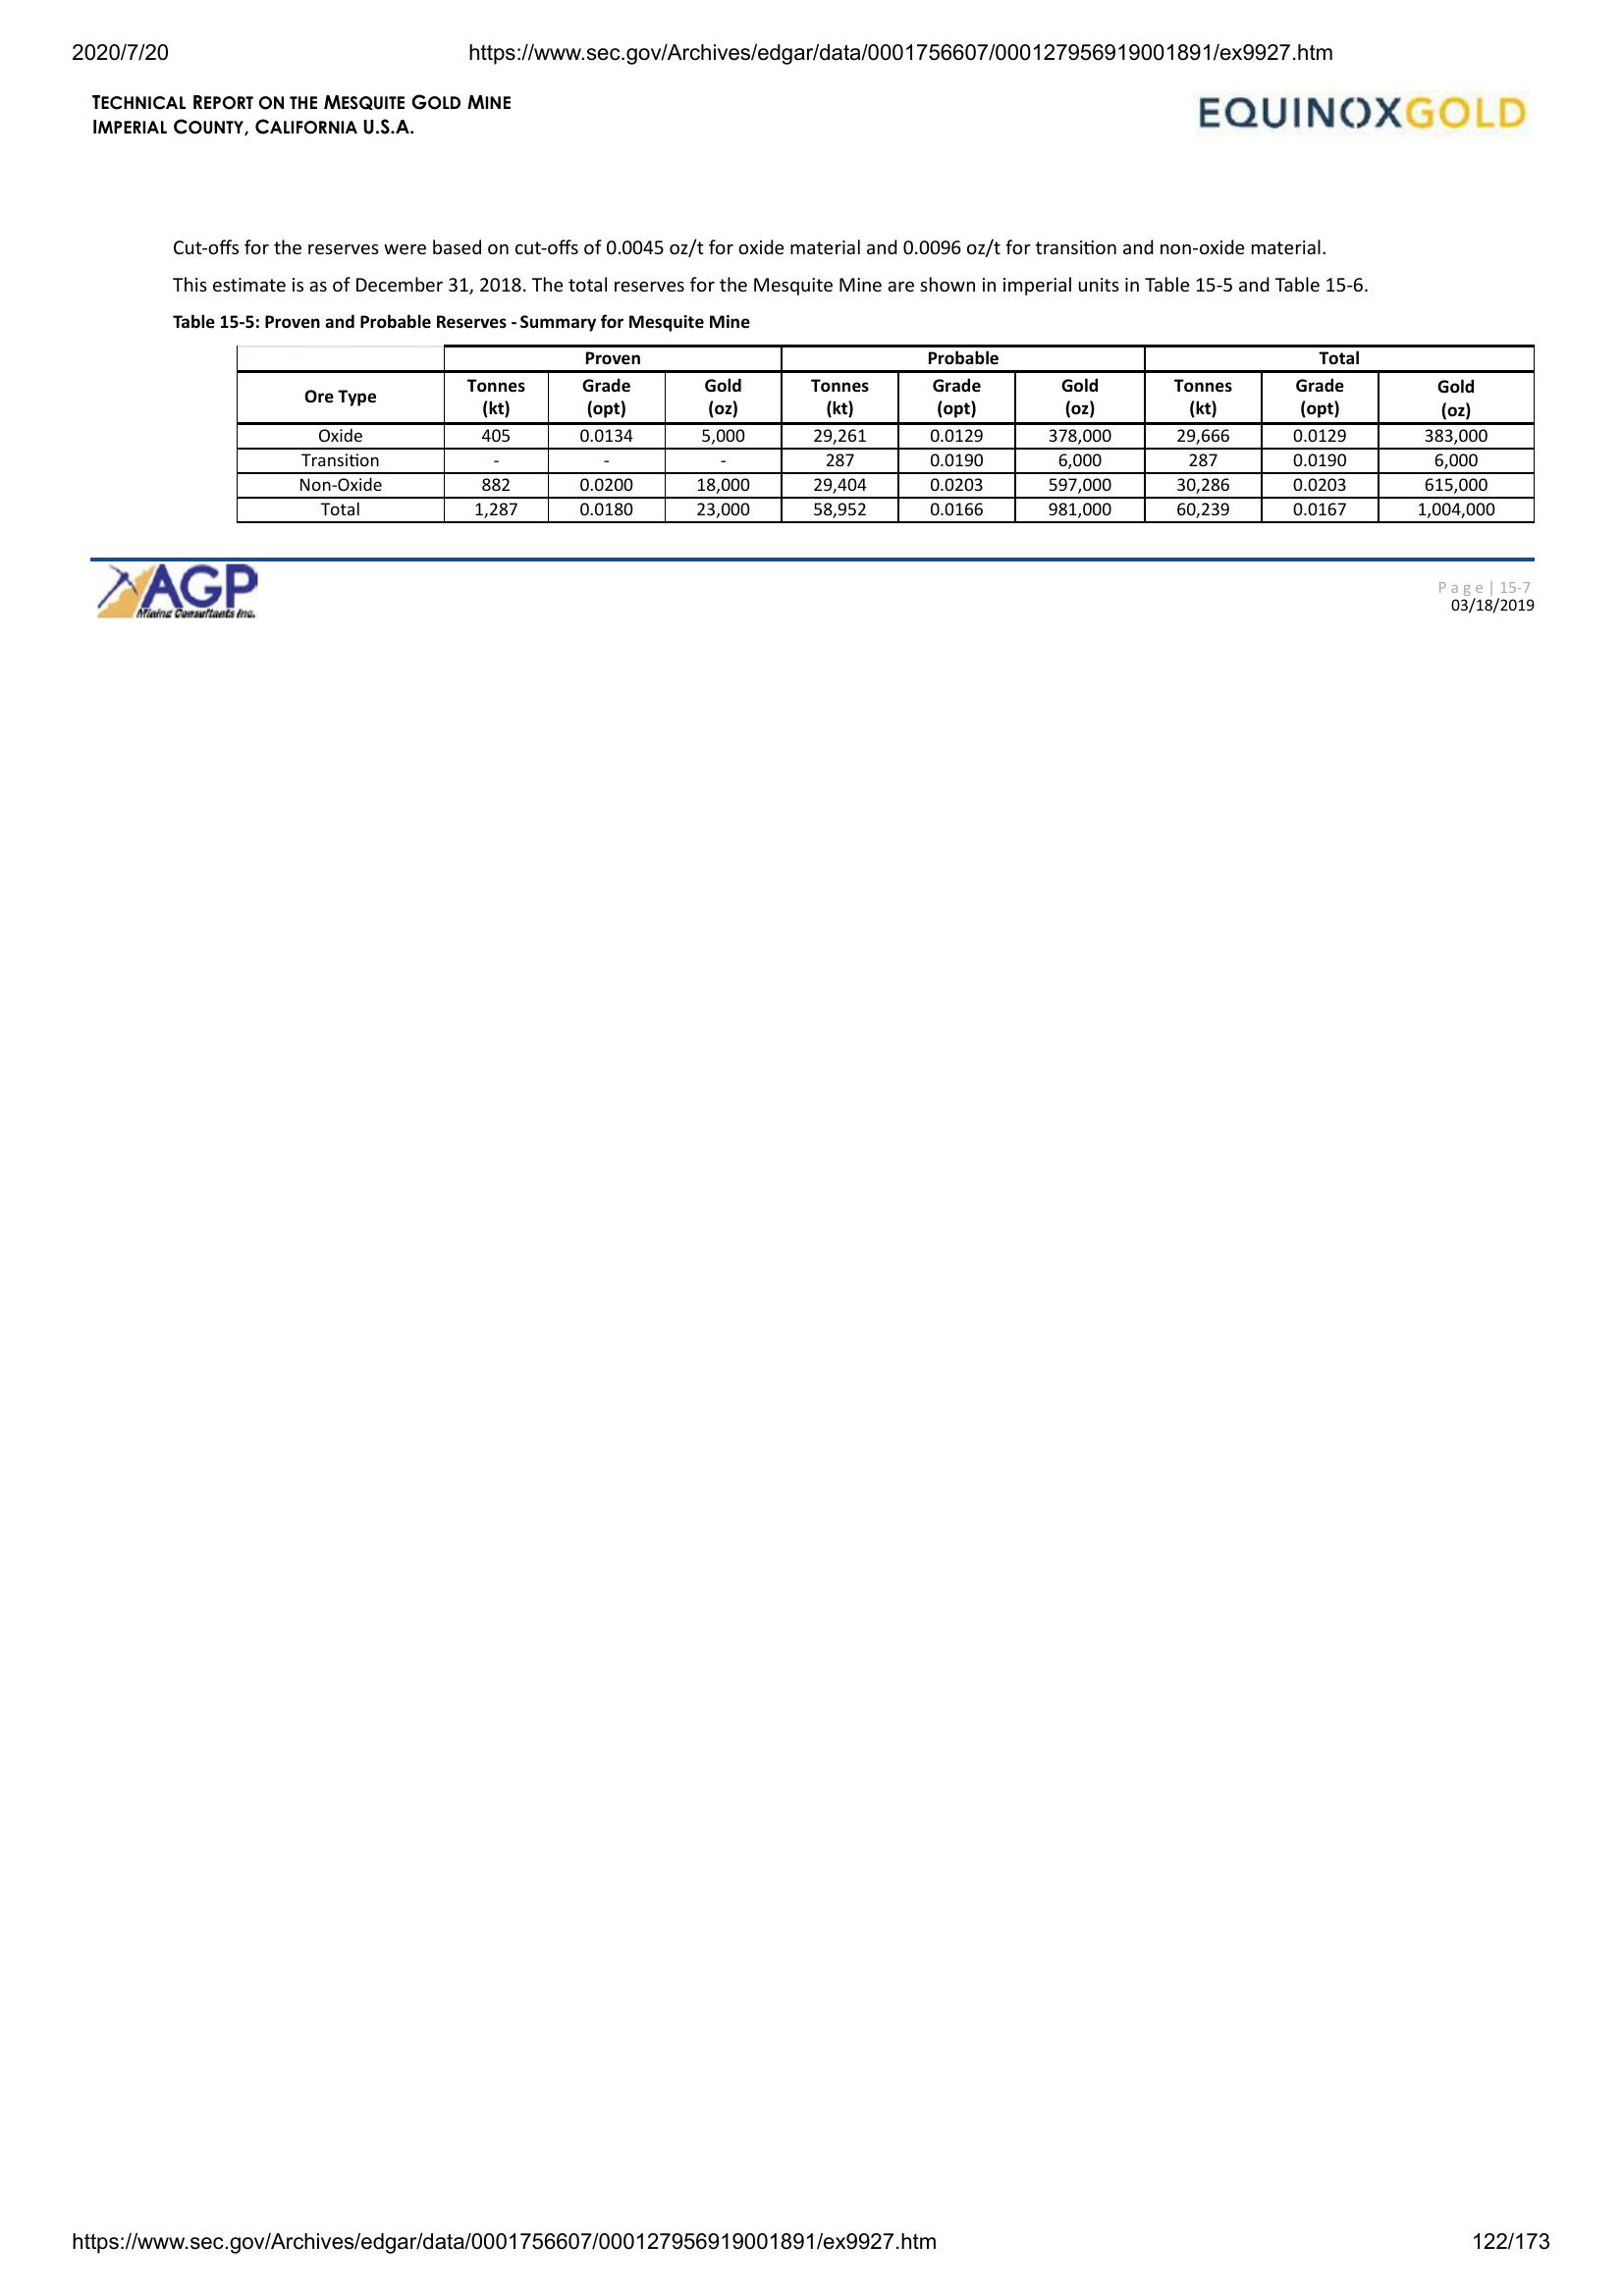table: (230, 339, 1540, 528)
